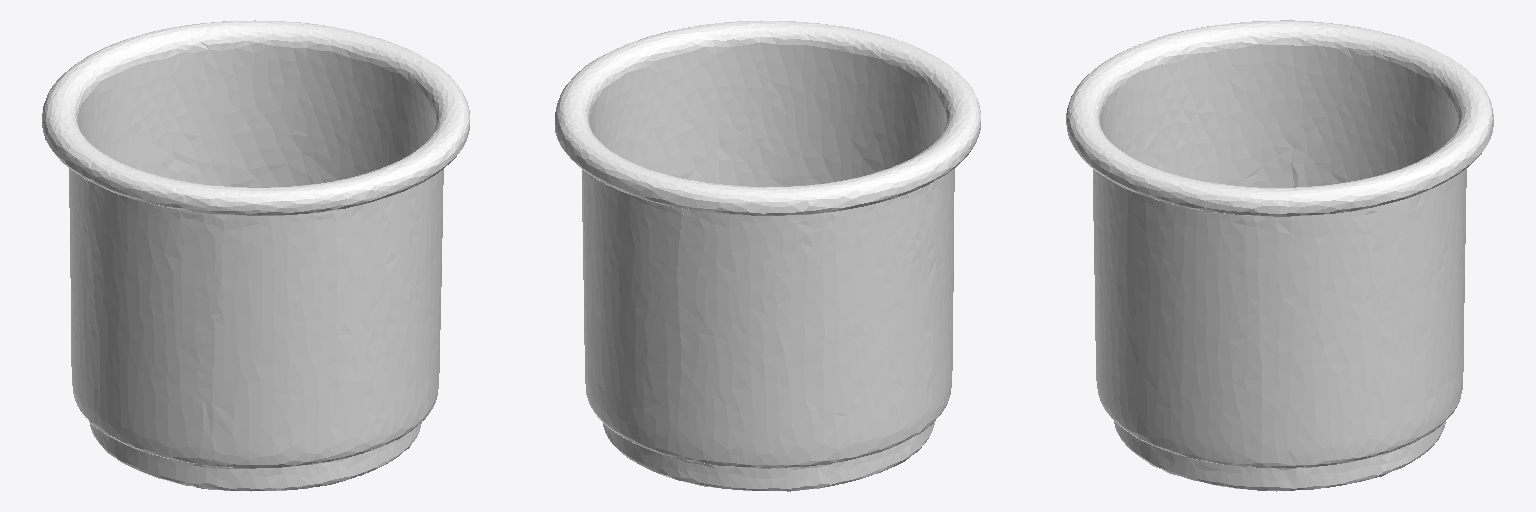
The robot description file, URDF, robot "073-b_lego_duplo":
<robot name="073-b_lego_duplo">
	<link name="_name">
		<visual>
			<origin xyz="0.2015195399517096 0.20701169043825227 -0.23741940675427498" rpy="0 0 0" />
			<geometry>
				<mesh filename="073-b_lego_duplo/google_16k/textured.obj" scale="10 10 10" />
			</geometry>
			<material name="texture">
				<color rgba="1.0 1.0 1.0 1.0" />
			</material>
		</visual>
		<collision>
			<geometry>
				<mesh filename="073-b_lego_duplo/google_16k/textured_vhacd.obj" scale="10 10 10" />
			</geometry>
		<origin xyz="0.2015195399517096 0.20701169043825227 -0.23741940675427498" rpy="0 0 0" /></collision>
		<inertial>
			<mass value="1.0" />
			<inertia ixx="1.0" ixy="0.0" ixz="0.0" iyy="1.0" iyz="0.0" izz="1.0" />
		</inertial>
	</link>
</robot>

--- Facts derived from the render (not from the file) ---
Views: 3 orthographic renders of the robot side by side, from view 1: azimuth 30°, elevation 25°; view 2: azimuth 150°, elevation 25°; view 3: azimuth 270°, elevation 25°.
Robot: 073-b_lego_duplo — 1 links, 0 joints (none); root link _name; default pose: all joints at 0.
Links seen in each view (by area): view 1: _name; view 2: _name; view 3: _name.
Boxes of the visible links, bbox=[...] form: _name: bbox=[42, 20, 469, 491]; _name: bbox=[555, 20, 980, 491]; _name: bbox=[1066, 20, 1493, 491].
Size in the robot's own frame: 0.915 by 0.9162 by 0.7506 metres.
1 mesh visuals loaded from 1 distinct referenced files (1 OBJ).